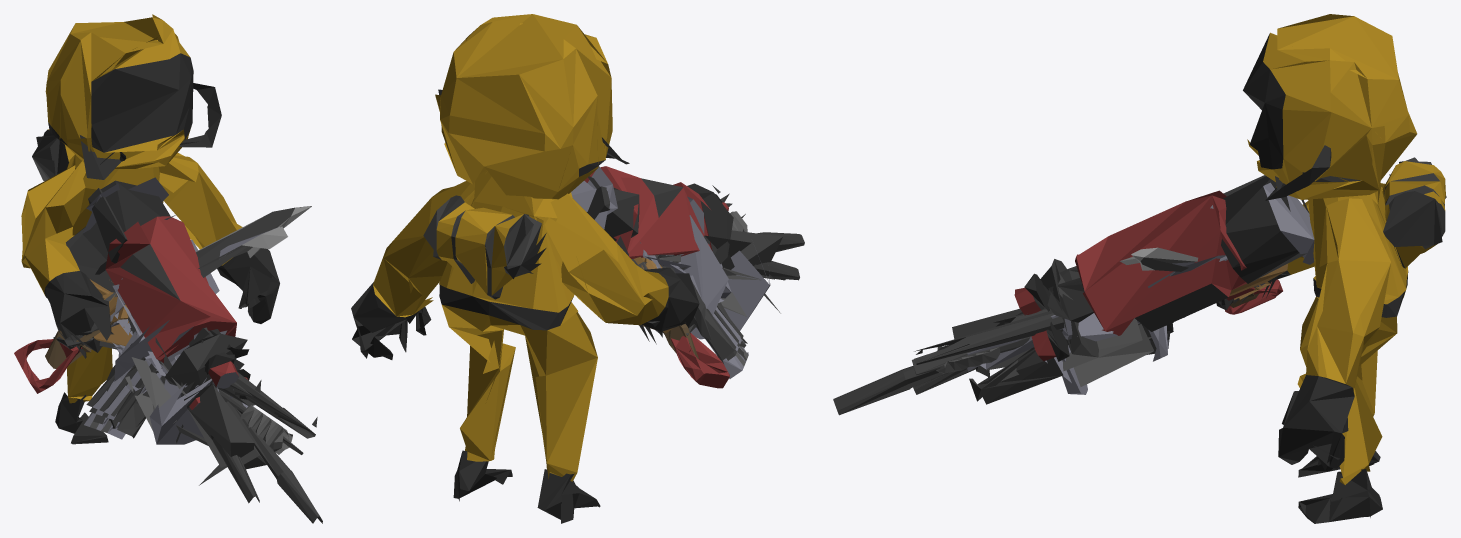
File: modern-hazmat.glb
3 views of the same model, side by side, from view 1: azimuth 30°, elevation 25°; view 2: azimuth 150°, elevation 25°; view 3: azimuth 270°, elevation 25° (orthographic). The views are drawn at different scales.
Visible parts, largest first — view 1: modern-hazmat; view 2: modern-hazmat; view 3: modern-hazmat.
Part boxes in pixels (left/top/right/bottom): modern-hazmat: left=14, top=14, right=322, bottom=523; modern-hazmat: left=351, top=14, right=804, bottom=523; modern-hazmat: left=833, top=14, right=1446, bottom=523.
Bounding box in the file's own units: 0.7307 × 0.9913 × 1.19.
